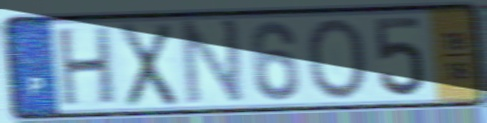5: (371, 15, 428, 100)
6: (248, 18, 301, 104)
H: (56, 23, 117, 110)
N: (180, 15, 246, 108)
O: (304, 16, 370, 102)
X: (117, 20, 179, 111)
